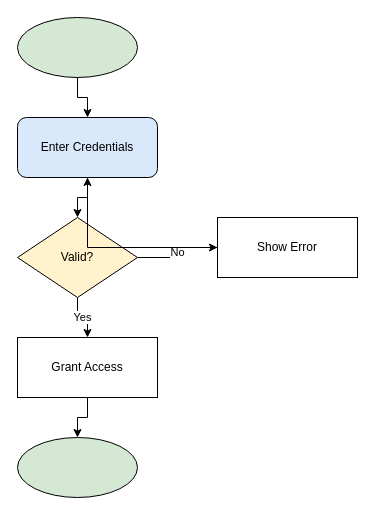
Some shapes in this 375 by 515 pixel diagram are drawn without their labels. The shapes that lost their labels are listed below. From the top down, each one's centre as x and y in pixels, then its label:
(77,47): Start
(77,467): End
